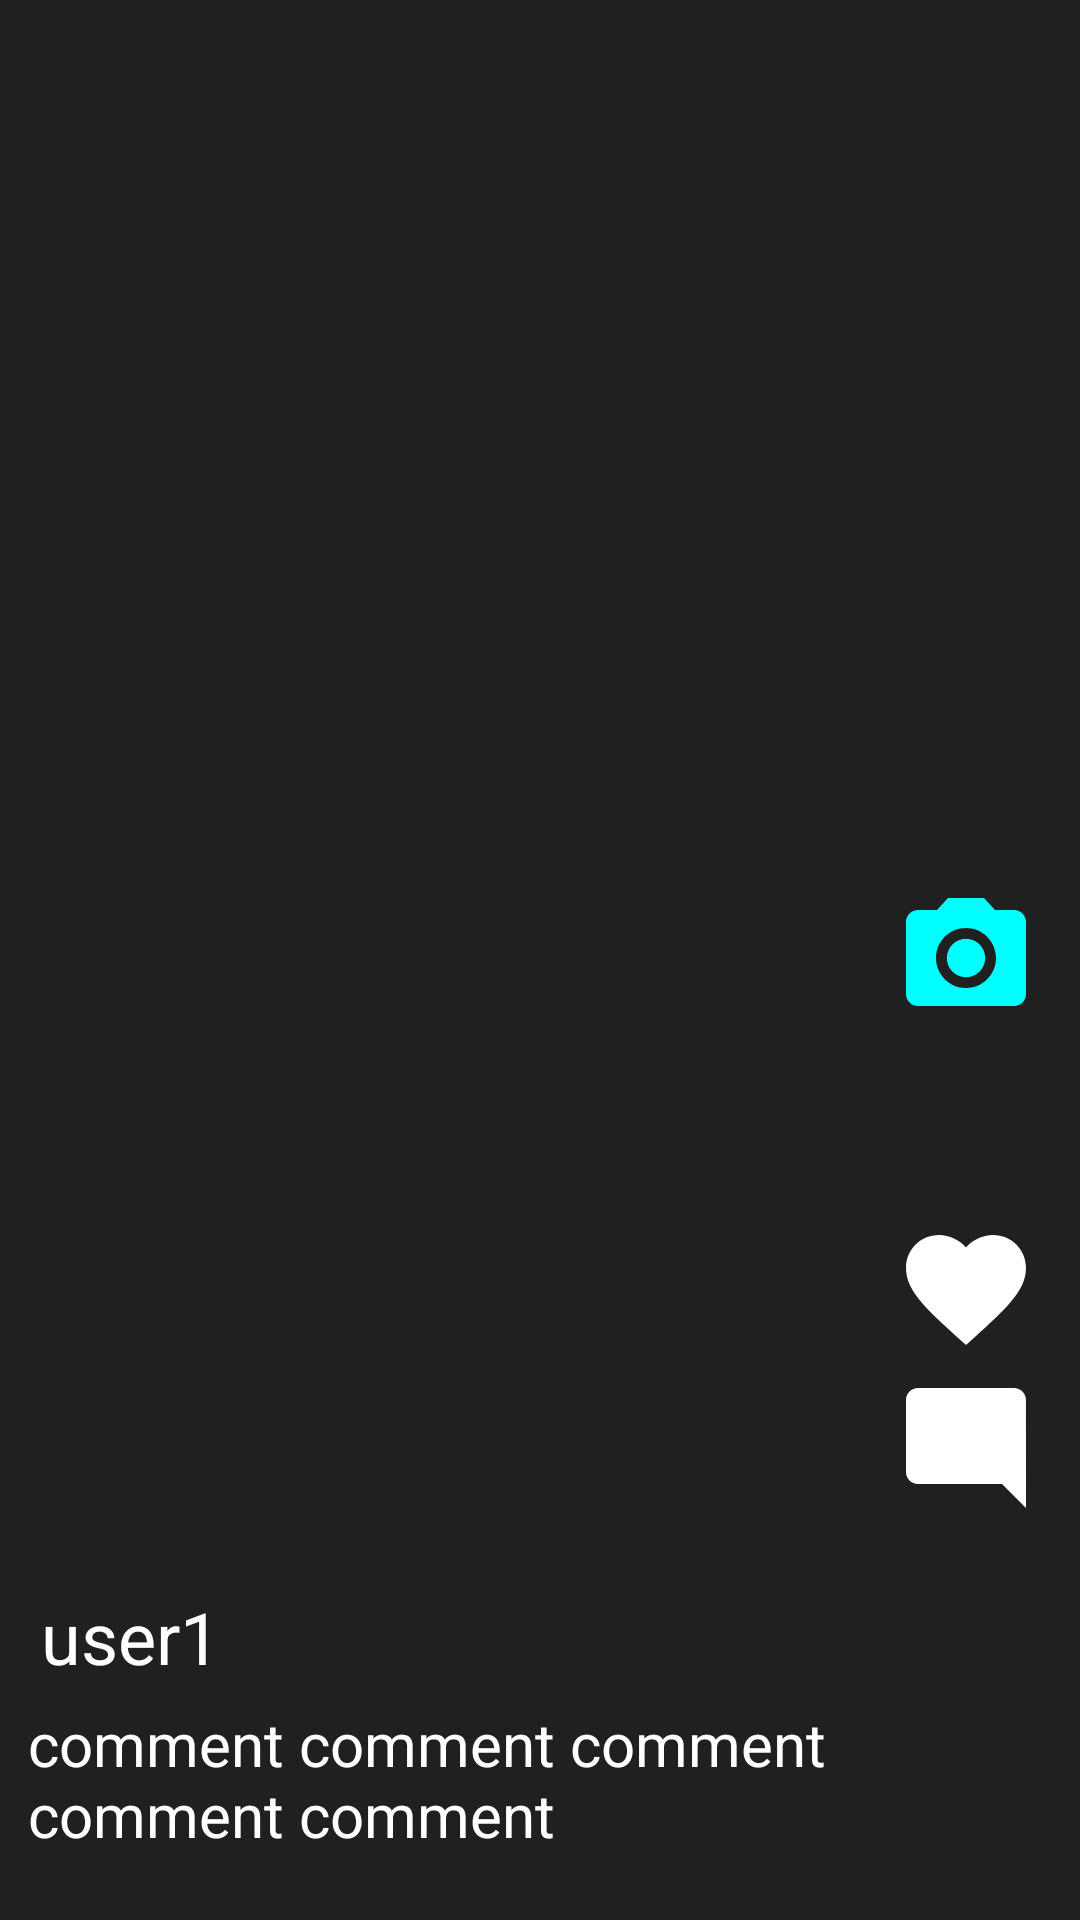

Where icons sit on this 1080*1920 app screen, as (x1, y1, x2, y2):
camera: (906, 898, 1026, 1006)
like: (906, 1235, 1026, 1345)
